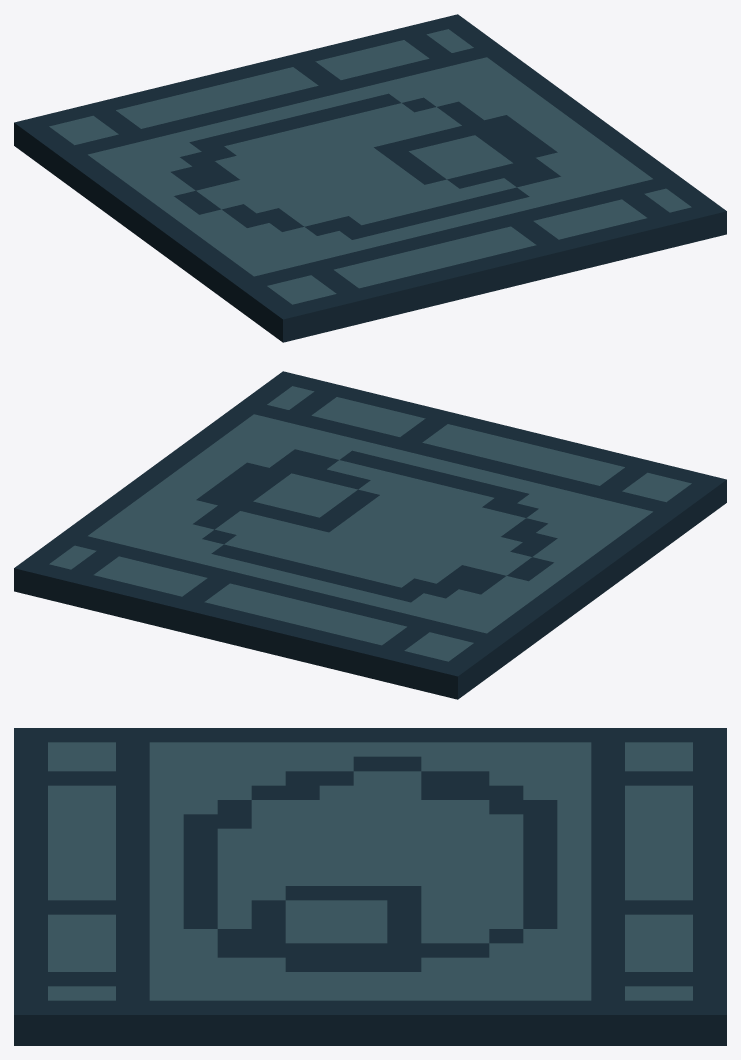
The model's file is artifact_1.fbx.
3 renders of one model, top to bottom at view 1: azimuth 30°, elevation 25°; view 2: azimuth 150°, elevation 25°; view 3: azimuth 270°, elevation 25°, orthographic. The views are drawn at different scales.
Parts seen in each view (by area): view 1: _16; view 2: _16; view 3: _16.
Part boxes in pixels (left/top/right/bottom): _16: left=14, top=14, right=726, bottom=342; _16: left=14, top=371, right=726, bottom=699; _16: left=14, top=728, right=726, bottom=1045.
Bounding box in the file's own units: 20 × 1 × 21.
